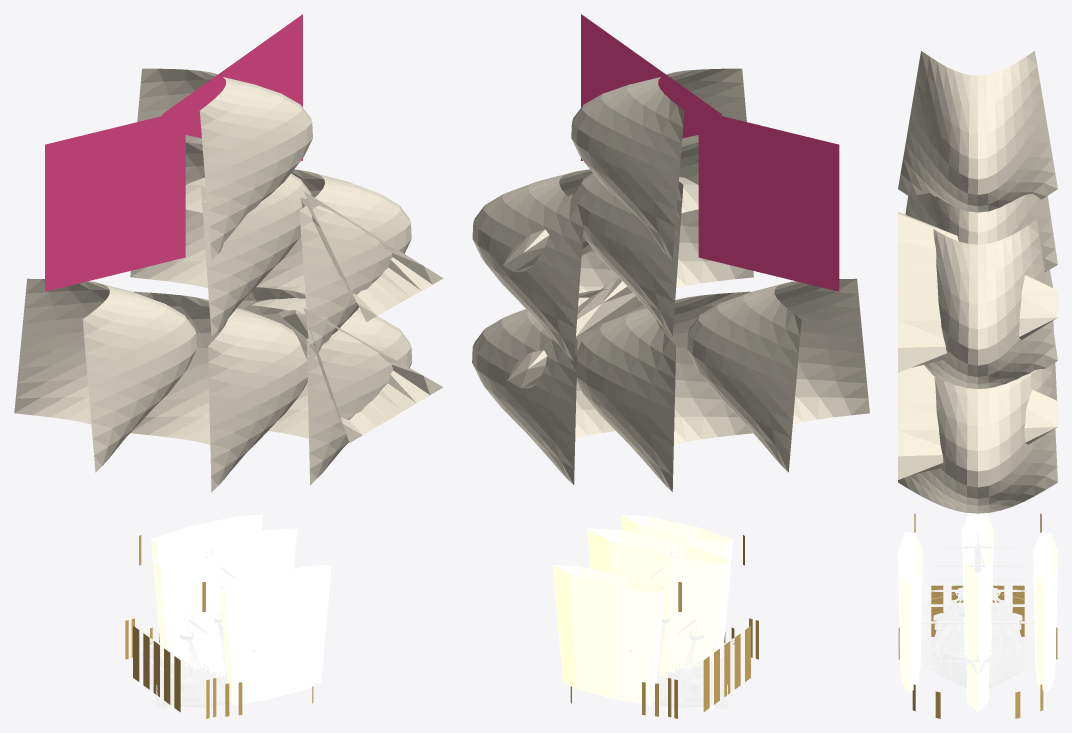
File: navire-galion.glb
3 renders of one model, left to right at view 1: azimuth 30°, elevation 25°; view 2: azimuth 150°, elevation 25°; view 3: azimuth 270°, elevation 25°, orthographic.
Visible parts, largest first — view 1: navire_lumieres.002, voile_artimon.006, drapeau.007, voile_grande.007, voile_perroquet.007, voile_misaine_hune.006, voile_misaine.007, voile_hune.007, flamme.007, voile_foc2.006, voile_foc.007, navire_corps.007 (+1 smaller); view 2: navire_lumieres.002, voile_artimon.006, drapeau.007, voile_grande.007, voile_perroquet.007, voile_misaine_hune.006, voile_misaine.007, voile_hune.007, flamme.007, navire_corps.007, voile_foc2.006, navire_vitres.002 (+1 smaller); view 3: voile_perroquet.007, voile_misaine_hune.006, voile_misaine.007, navire_lumieres.002, voile_foc.007, navire_corps.007, voile_foc2.006, voile_hune.007, navire_vitres.002.
Part boxes in pixels (x1,y1,x2,y2): navire_lumieres.002: (151, 514, 331, 708); voile_artimon.006: (14, 278, 196, 472); drapeau.007: (45, 110, 185, 291); voile_grande.007: (130, 291, 307, 492); voile_perroquet.007: (137, 68, 312, 259); voile_misaine_hune.006: (251, 169, 411, 361); voile_misaine.007: (237, 287, 412, 485); voile_hune.007: (130, 142, 311, 336); flamme.007: (162, 14, 302, 160); voile_foc2.006: (278, 308, 443, 442); voile_foc.007: (300, 191, 443, 321); navire_corps.007: (140, 549, 254, 708); navire_lumieres.002: (552, 514, 733, 708); voile_artimon.006: (687, 278, 869, 472); drapeau.007: (698, 110, 839, 291); voile_grande.007: (576, 291, 752, 491); voile_perroquet.007: (571, 68, 746, 259); voile_misaine_hune.006: (472, 169, 618, 361); voile_misaine.007: (472, 289, 646, 484); voile_hune.007: (571, 142, 753, 336); flamme.007: (581, 14, 721, 160); navire_corps.007: (629, 549, 743, 708); voile_foc2.006: (507, 278, 638, 388); navire_vitres.002: (570, 535, 758, 718); voile_perroquet.007: (898, 51, 1057, 212); voile_misaine_hune.006: (919, 220, 1057, 388); voile_misaine.007: (898, 364, 1057, 513); navire_lumieres.002: (898, 513, 1057, 711); voile_foc.007: (898, 212, 1057, 372); navire_corps.007: (898, 533, 1057, 688); voile_foc2.006: (898, 365, 1057, 479); voile_hune.007: (905, 193, 1057, 271); navire_vitres.002: (898, 513, 1057, 718).
Bounding box in the file's own units: 5.19 × 8.97 × 2.
